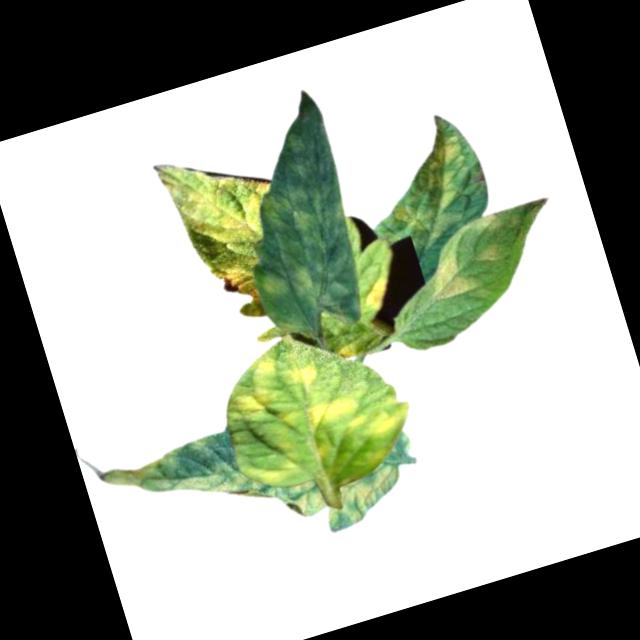Leaf_Mold: (207, 311, 423, 508), (211, 89, 380, 338), (88, 428, 248, 540), (150, 133, 285, 265), (368, 121, 485, 252), (314, 456, 413, 533), (209, 257, 260, 311), (425, 254, 471, 302), (358, 273, 397, 316), (468, 239, 505, 267)
